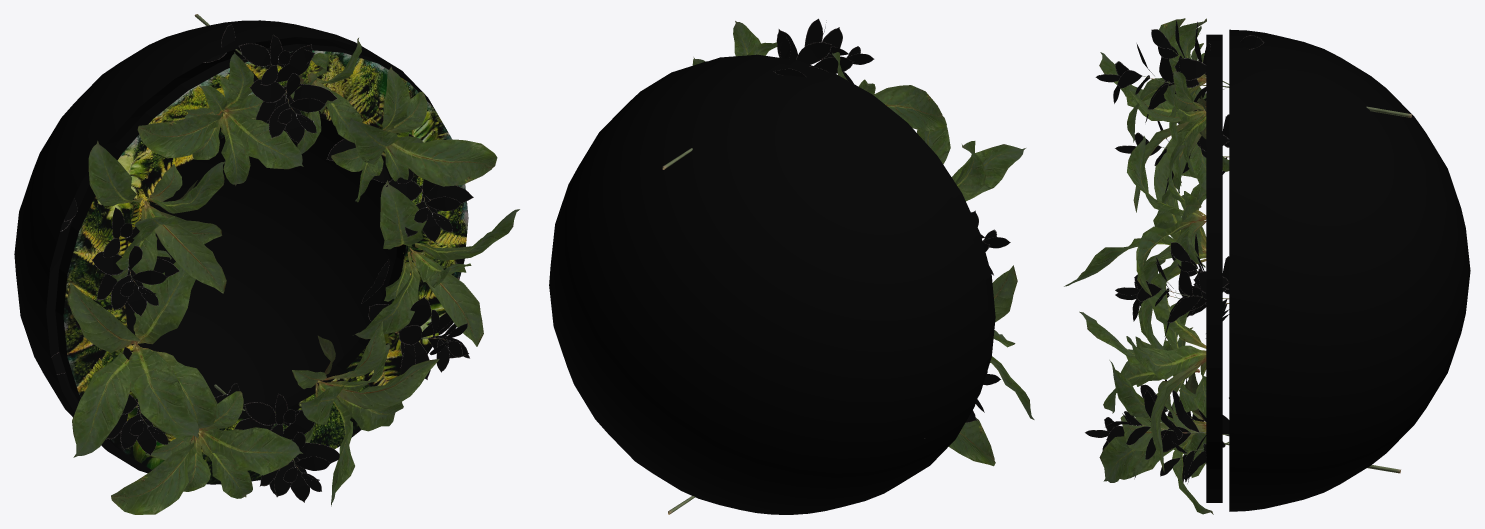
Rendered from portal.glb.
The picture shows the model from 3 angles, left to right: view 1: azimuth 30°, elevation 25°; view 2: azimuth 150°, elevation 25°; view 3: azimuth 270°, elevation 25°; orthographic projection.
Parts seen in each view (by area): view 1: Sphere, Circle, anthurium_botany_01_b.004, anthurium_botany_01_a, anthurium_botany_01_b.003, anthurium_botany_01_a.002, anthurium_botany_01_a.001, anthurium_botany_01_b.001, anthurium_botany_01_b.002, Leaves.004, Leaves.001, Leaves.006 (+4 smaller); view 2: Sphere, Circle, anthurium_botany_01_b.003, Leaves.004, anthurium_botany_01_a.002, anthurium_botany_01_b.004, anthurium_botany_01_a, anthurium_botany_01_b.005; view 3: Sphere, Circle, anthurium_botany_01_b.001, anthurium_botany_01_b.002, anthurium_botany_01_a.001, anthurium_botany_01_b.004, Leaves.004, Leaves.002, anthurium_botany_01_b.003, Leaves.005, anthurium_botany_01_b.005, anthurium_botany_01_a.002 (+4 smaller).
Boxes of the visible parts, box(x1,y1,x2,y2) form: Sphere: box(14, 20, 433, 484); Circle: box(55, 44, 468, 484); anthurium_botany_01_b.004: box(67, 262, 217, 457); anthurium_botany_01_a: box(111, 391, 302, 514); anthurium_botany_01_b.003: box(88, 140, 226, 293); anthurium_botany_01_a.002: box(137, 52, 303, 185); anthurium_botany_01_a.001: box(331, 66, 497, 202); anthurium_botany_01_b.001: box(353, 180, 519, 346); anthurium_botany_01_b.002: box(292, 321, 439, 506); Leaves.004: box(194, 14, 337, 143); Leaves.001: box(214, 383, 339, 502); Leaves.006: box(60, 198, 179, 316); Sphere: box(549, 58, 990, 514); Circle: box(710, 54, 995, 398); anthurium_botany_01_b.003: box(917, 126, 1025, 201); Leaves.004: box(662, 18, 874, 169); anthurium_botany_01_a.002: box(832, 52, 946, 131); anthurium_botany_01_b.004: box(990, 265, 1034, 419); anthurium_botany_01_a: box(948, 418, 995, 466); anthurium_botany_01_b.005: box(733, 21, 777, 56); Sphere: box(1229, 29, 1470, 511); Circle: box(1206, 34, 1222, 502); anthurium_botany_01_b.001: box(1079, 260, 1206, 472); anthurium_botany_01_b.002: box(1099, 360, 1213, 514); anthurium_botany_01_a.001: box(1127, 136, 1206, 296); anthurium_botany_01_b.004: box(1064, 138, 1206, 349); Leaves.004: box(1095, 19, 1411, 122); Leaves.002: box(1105, 390, 1229, 483); anthurium_botany_01_b.003: box(1099, 18, 1206, 212); Leaves.005: box(1115, 233, 1229, 336); anthurium_botany_01_b.005: box(1130, 69, 1229, 193); anthurium_botany_01_a.002: box(1127, 18, 1206, 144).
Size of the model in its own units: 2.08 by 2.17 by 1.69.
8 materials, 5 textured.
